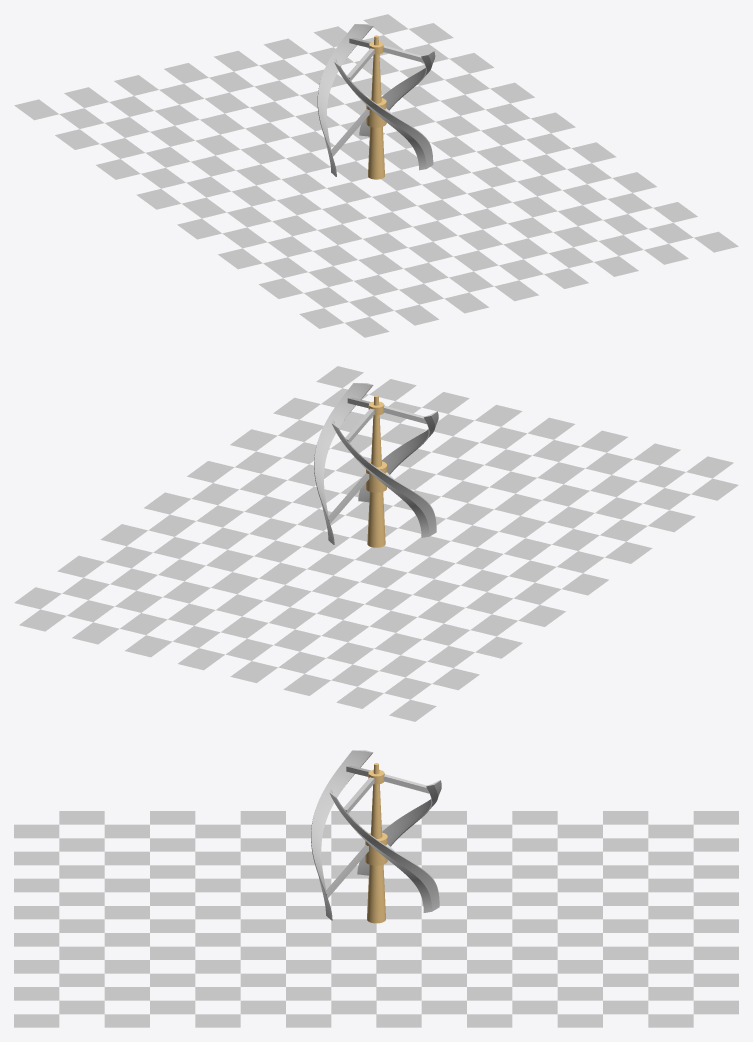
File: windTurbine.glb
3 views of the same model, one above another, from view 1: azimuth 30°, elevation 25°; view 2: azimuth 150°, elevation 25°; view 3: azimuth 270°, elevation 25° (orthographic). The views are drawn at different scales.
Visible parts, largest first — view 1: Checker.4_9, Blade_1, Tower_3; view 2: Checker.4_9, Blade_1, Tower_3; view 3: Checker.4_9, Blade_1, Tower_3.
Boxes of the visible parts, bbox=[...] form: Checker.4_9: bbox=[14, 14, 738, 337]; Blade_1: bbox=[317, 24, 435, 176]; Tower_3: bbox=[366, 35, 386, 179]; Checker.4_9: bbox=[14, 366, 738, 721]; Blade_1: bbox=[314, 383, 438, 544]; Tower_3: bbox=[366, 395, 386, 547]; Checker.4_9: bbox=[14, 811, 738, 1027]; Blade_1: bbox=[311, 750, 441, 920]; Tower_3: bbox=[365, 763, 387, 923].
Size of what is drawn, in the model's own units: 8 by 2.67 by 11.31.
